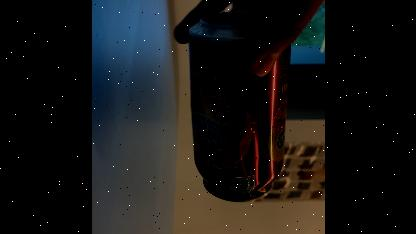Can: (178, 8, 290, 208)
